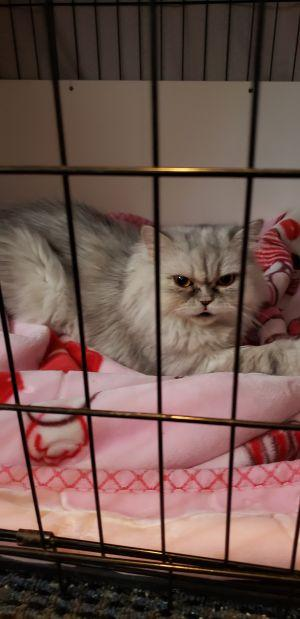persian: (129, 216, 265, 341)
